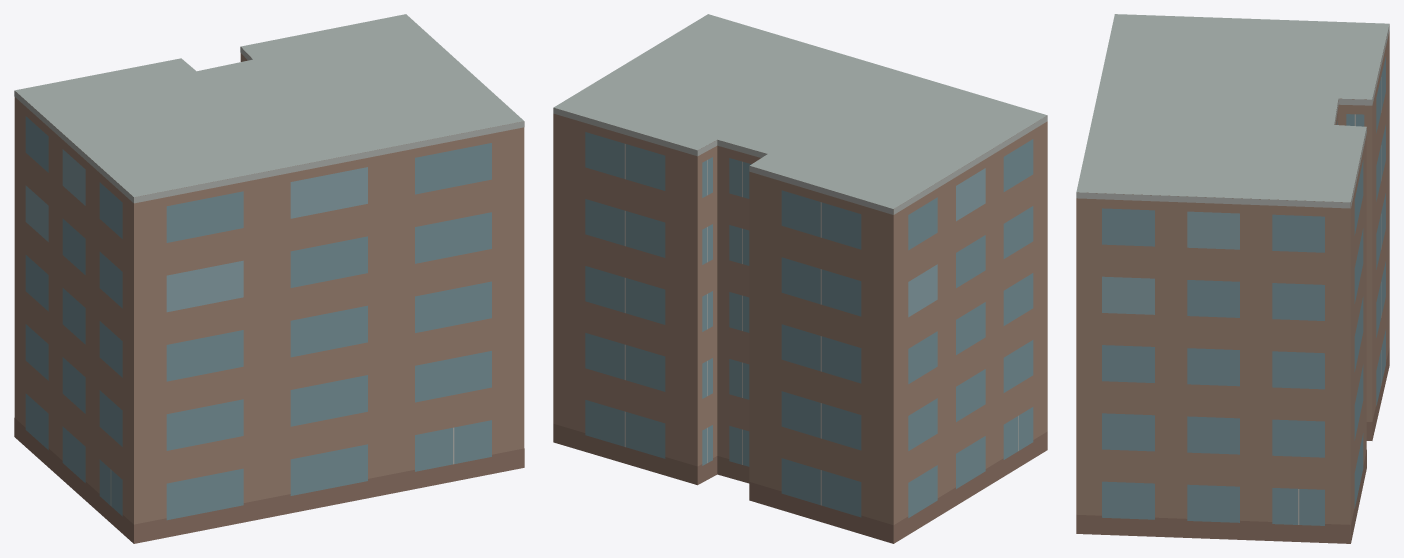
Rendered from survey-upis-32533172.glb.
The picture shows the model from 3 angles, left to right: view 1: azimuth 30°, elevation 25°; view 2: azimuth 150°, elevation 25°; view 3: azimuth 270°, elevation 25°; orthographic projection. The views are drawn at different scales.
Parts seen in each view (by area): view 1: survey-upis-32533172.tmp; view 2: survey-upis-32533172.tmp; view 3: survey-upis-32533172.tmp.
Part boxes in pixels (x1=…): survey-upis-32533172.tmp: x1=14, y1=14, x2=524, y2=543; survey-upis-32533172.tmp: x1=553, y1=14, x2=1047, y2=543; survey-upis-32533172.tmp: x1=1076, y1=14, x2=1389, y2=543.
Size of the model in its own units: 16.22 by 13.7 by 11.4.
